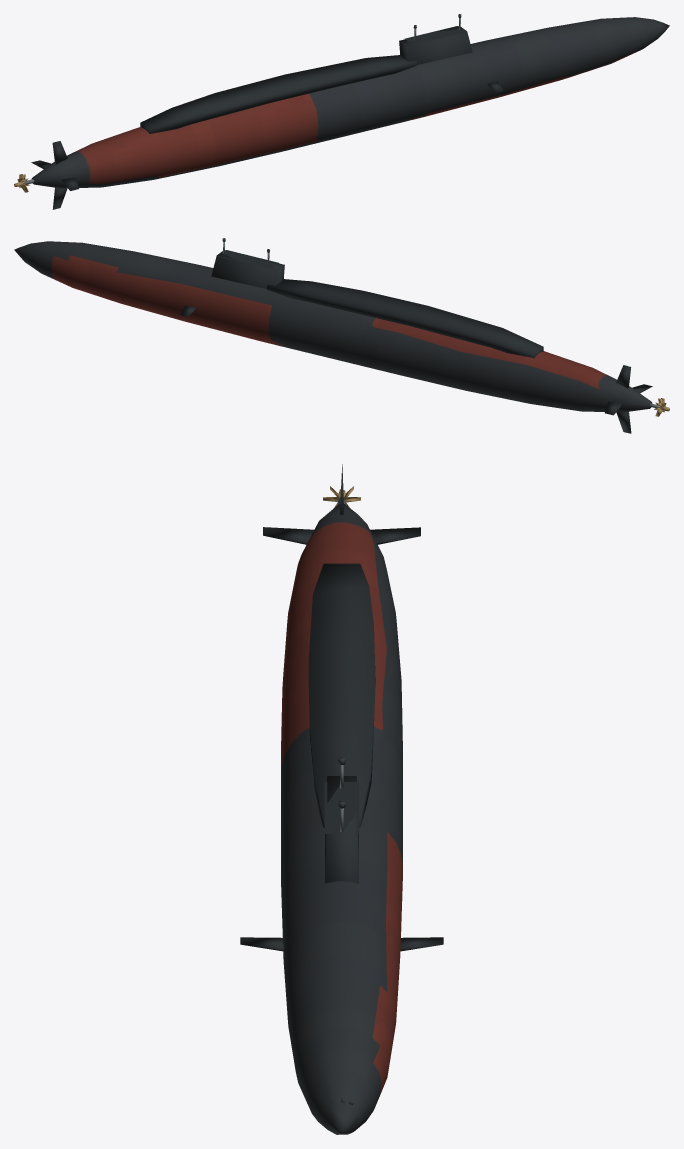
File: FR_SSBN_LeRedoutable_LOD3.fbx
3 renders of one model, top to bottom at view 1: azimuth 30°, elevation 25°; view 2: azimuth 150°, elevation 25°; view 3: azimuth 270°, elevation 25°, orthographic. The views are drawn at different scales.
Parts seen in each view (by area): view 1: FR_SSBN_LeRedoutable_LOD3; view 2: FR_SSBN_LeRedoutable_LOD3; view 3: FR_SSBN_LeRedoutable_LOD3.
Boxes of the visible parts, x1,y1,x2,y2 form: FR_SSBN_LeRedoutable_LOD3: [14, 14, 669, 209]; FR_SSBN_LeRedoutable_LOD3: [14, 238, 669, 433]; FR_SSBN_LeRedoutable_LOD3: [240, 464, 443, 1134].
Bounding box in the file's own units: 132 × 17.72 × 18.41.
6 materials, 1 textured.
